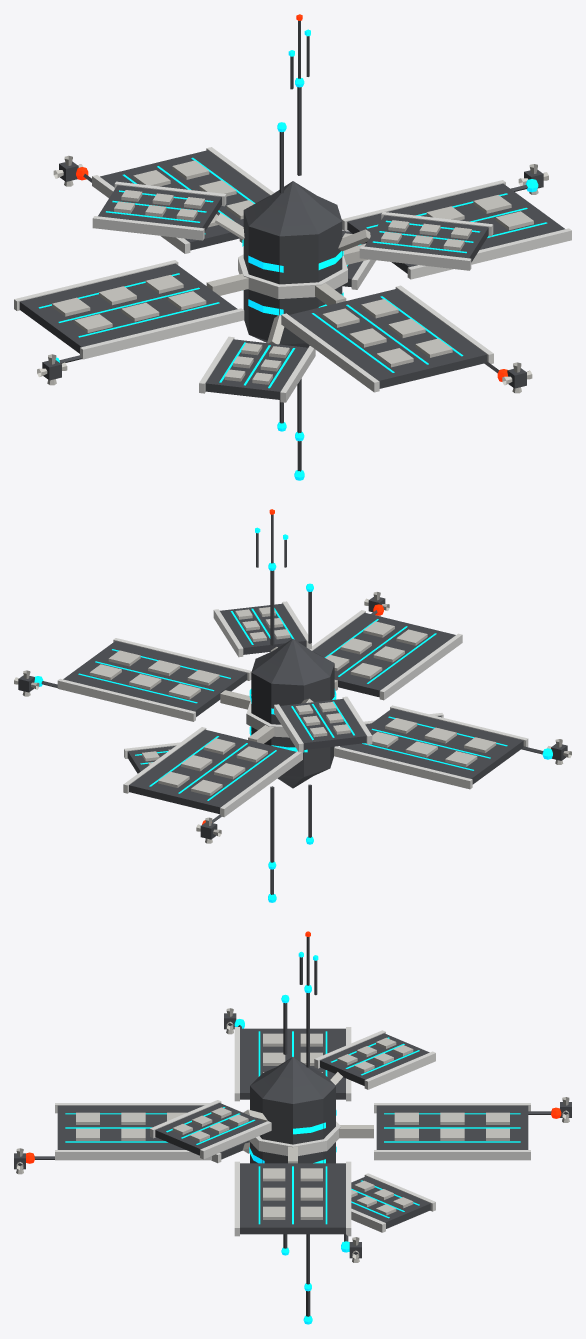
Rendered from electronics_fab.glb.
3 renders of one model, top to bottom at view 1: azimuth 30°, elevation 25°; view 2: azimuth 150°, elevation 25°; view 3: azimuth 270°, elevation 25°, orthographic. The views are drawn at different scales.
Parts seen in each view (by area): view 1: electronics_fab; view 2: electronics_fab; view 3: electronics_fab.
Boxes of the visible parts, bbox=[...] form: electronics_fab: bbox=[14, 14, 571, 480]; electronics_fab: bbox=[14, 509, 571, 902]; electronics_fab: bbox=[14, 931, 571, 1324].
Size of the model in its own units: 1.95 by 1.49 by 1.92.
